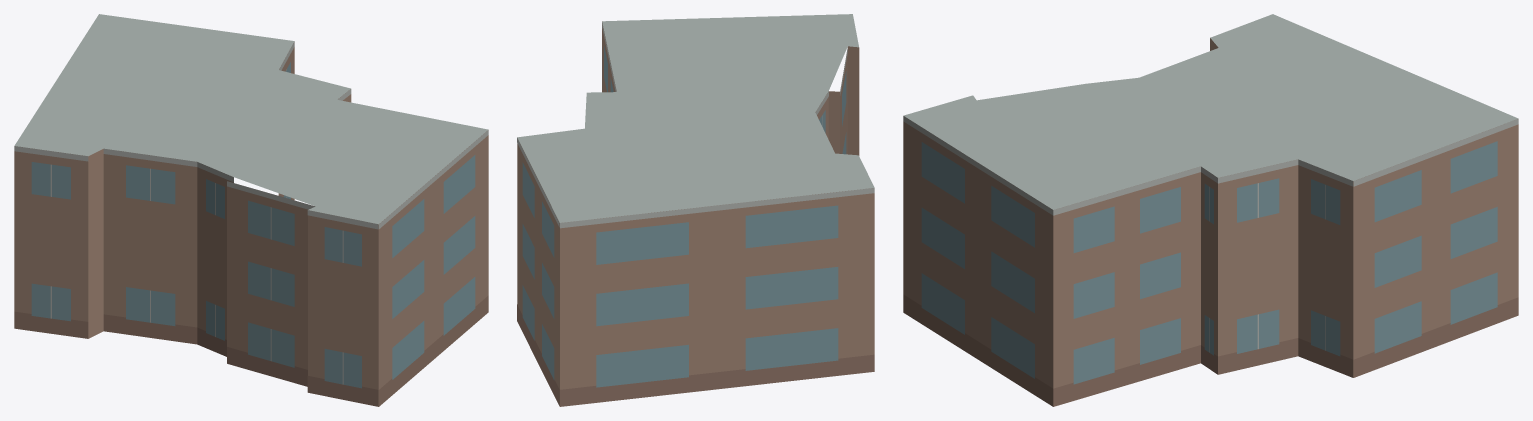
File: survey-upis-33015251.glb
3 renders of one model, left to right at view 1: azimuth 30°, elevation 25°; view 2: azimuth 150°, elevation 25°; view 3: azimuth 270°, elevation 25°, orthographic. The views are drawn at different scales.
Visible parts, largest first — view 1: survey-upis-33015251.tmp; view 2: survey-upis-33015251.tmp; view 3: survey-upis-33015251.tmp.
Part boxes in pixels (x1,y1,x2,y2): survey-upis-33015251.tmp: (14, 14, 488, 406); survey-upis-33015251.tmp: (517, 14, 874, 406); survey-upis-33015251.tmp: (903, 14, 1518, 406).
Bounding box in the file's own units: 17.94 × 8.4 × 23.8.
